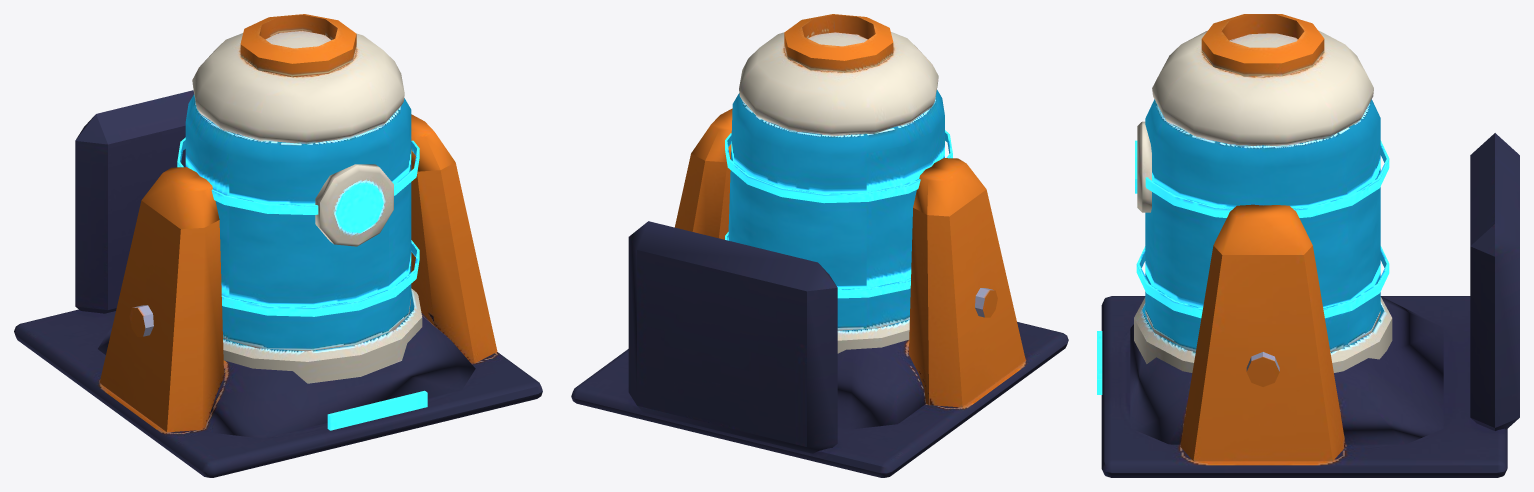
The model's file is R4X_Battery_LOD1.fbx.
3 renders of one model, left to right at view 1: azimuth 30°, elevation 25°; view 2: azimuth 150°, elevation 25°; view 3: azimuth 270°, elevation 25°, orthographic. The views are drawn at different scales.
Visible parts, largest first — view 1: R4X_Battery_LOD1; view 2: R4X_Battery_LOD1; view 3: R4X_Battery_LOD1.
Part boxes in pixels (x1=…): R4X_Battery_LOD1: x1=14, y1=14, x2=542, y2=477; R4X_Battery_LOD1: x1=571, y1=14, x2=1068, y2=477; R4X_Battery_LOD1: x1=1097, y1=14, x2=1519, y2=477.
Size of the model in its own units: 0.49 by 0.486 by 0.5105.
